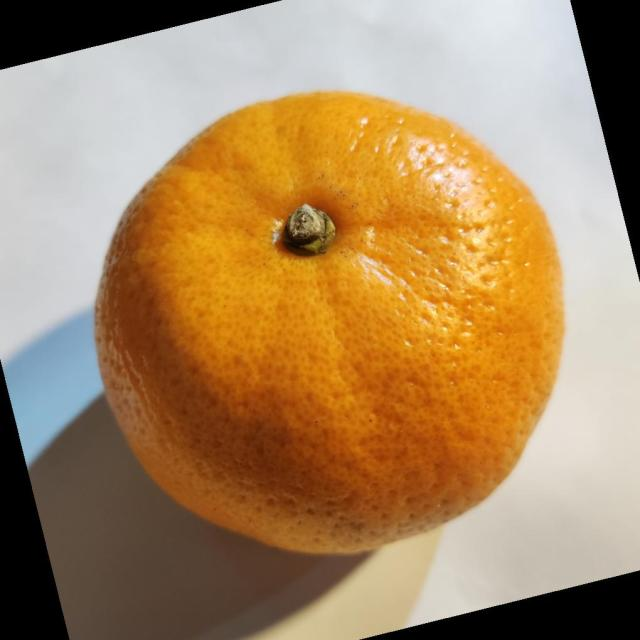fresh orange: (92, 89, 566, 556)
